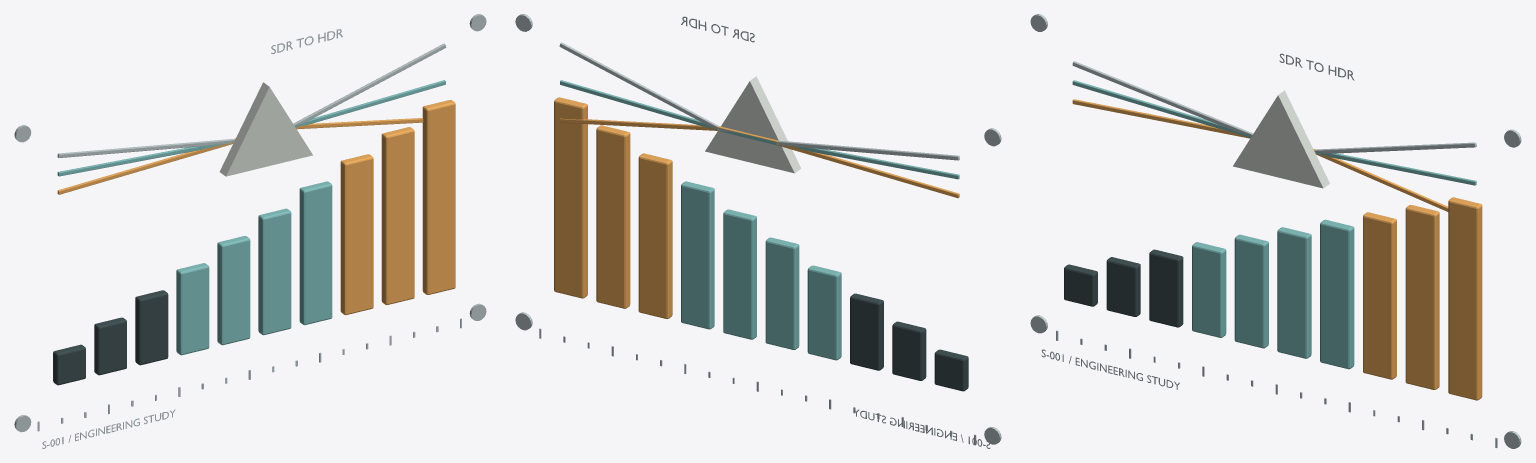
File: sdr-hdr.glb
The picture shows the model from 3 angles, left to right: view 1: azimuth 30°, elevation 25°; view 2: azimuth 150°, elevation 25°; view 3: azimuth 330°, elevation 25°; orthographic projection. The views are drawn at different scales.
Visible parts, largest first — view 1: optical-core__Project_Amber.011, optical-core__Project_Trace.006, optical-core__Project_Graphite.010, optical-core__Project_Ceramic.010, optical-lenses__Project_Silver.012, optical-lenses__Project_Trace.009, optical-lenses__Project_Amber.005; view 2: optical-core__Project_Amber.011, optical-core__Project_Trace.006, optical-core__Project_Graphite.010, optical-lenses__Project_Silver.012, optical-core__Project_Ceramic.010, optical-lenses__Project_Trace.009, optical-lenses__Project_Amber.005; view 3: optical-core__Project_Amber.011, optical-core__Project_Trace.006, optical-core__Project_Graphite.010, optical-core__Project_Ceramic.010, optical-lenses__Project_Silver.012, optical-lenses__Project_Trace.009, optical-lenses__Project_Amber.005.
Part boxes in pixels (x1,y1,x2,y2): optical-core__Project_Amber.011: (340,100,455,315); optical-core__Project_Trace.006: (176,181,332,355); optical-core__Project_Graphite.010: (53,290,168,385); optical-core__Project_Ceramic.010: (219,82,312,176); optical-lenses__Project_Silver.012: (14,14,486,448); optical-lenses__Project_Trace.009: (57,80,445,176); optical-lenses__Project_Amber.005: (57,118,423,194); optical-core__Project_Amber.011: (554,97,672,318); optical-core__Project_Trace.006: (681,181,841,360); optical-core__Project_Graphite.010: (850,293,968,391); optical-lenses__Project_Silver.012: (515,14,1001,448); optical-core__Project_Ceramic.010: (705,76,801,173); optical-lenses__Project_Trace.009: (560,80,959,179); optical-lenses__Project_Amber.005: (559,118,959,198); optical-core__Project_Amber.011: (1363,197,1482,400); optical-core__Project_Trace.006: (1192,219,1354,369); optical-core__Project_Graphite.010: (1064,249,1183,327); optical-core__Project_Ceramic.010: (1233,90,1329,188); optical-lenses__Project_Silver.012: (1030,14,1521,448); optical-lenses__Project_Trace.009: (1072,80,1476,185); optical-lenses__Project_Amber.005: (1072,99,1448,211).
Bounding box in the file's own units: 4.01 × 2.83 × 0.1417.
